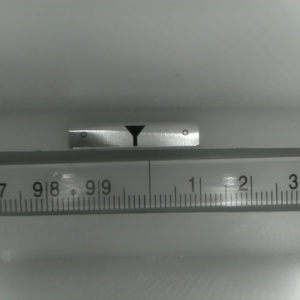1: (187, 177, 194, 192)
2: (237, 176, 248, 190)
3: (287, 173, 297, 189)
7: (0, 183, 7, 198)
8: (49, 181, 59, 196)
9: (101, 179, 111, 195), (32, 182, 42, 198), (85, 180, 95, 195)
finger: (123, 126, 145, 146)
